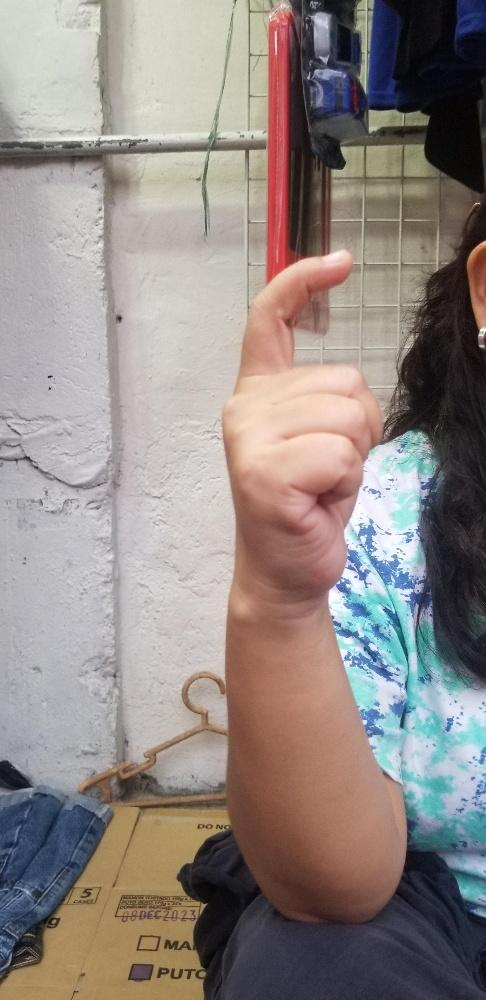x: (217, 248, 378, 592)
